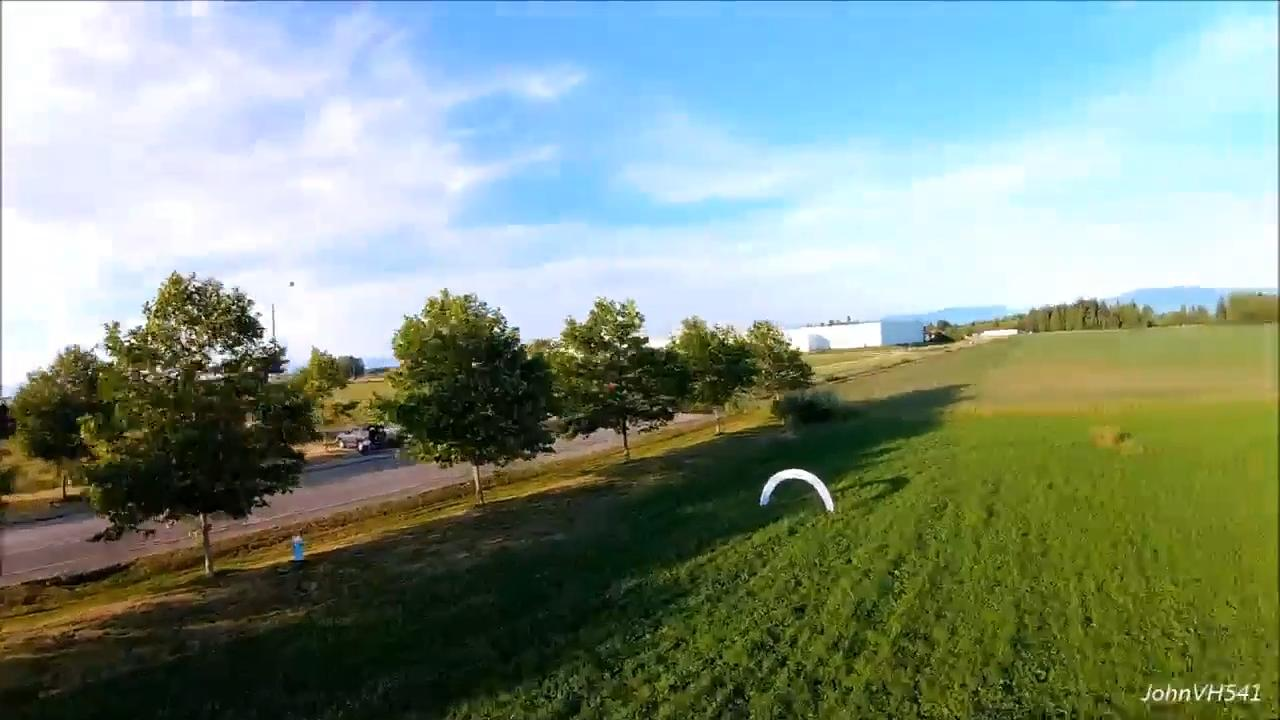gate: (761, 469, 838, 513)
